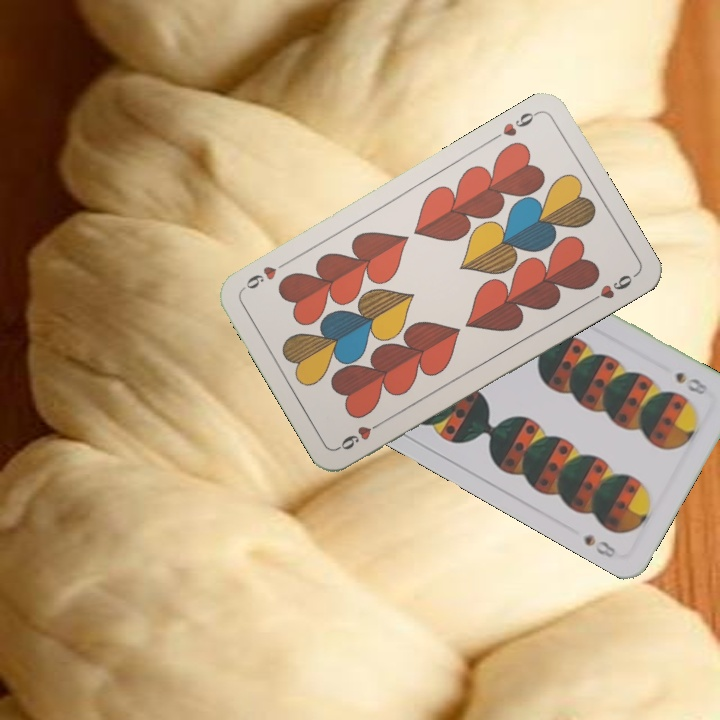H9: (334, 416, 387, 453), (488, 107, 541, 143)
S8: (671, 368, 710, 398)
